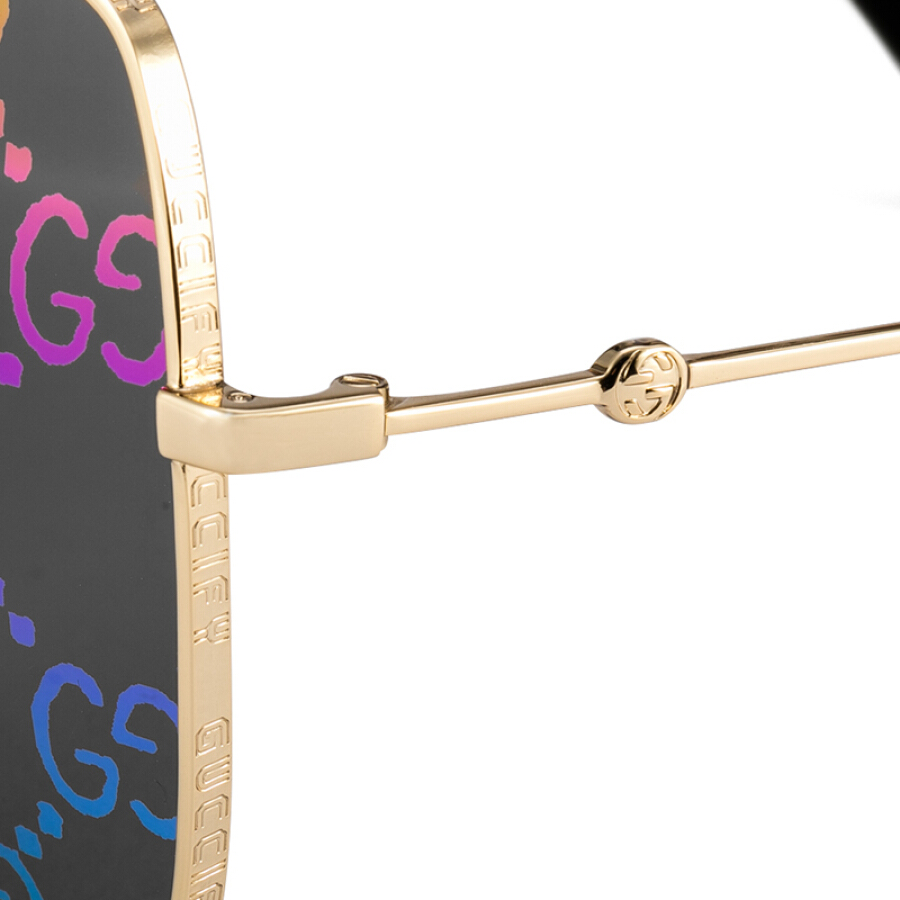Gucci: (593, 320, 688, 430)
